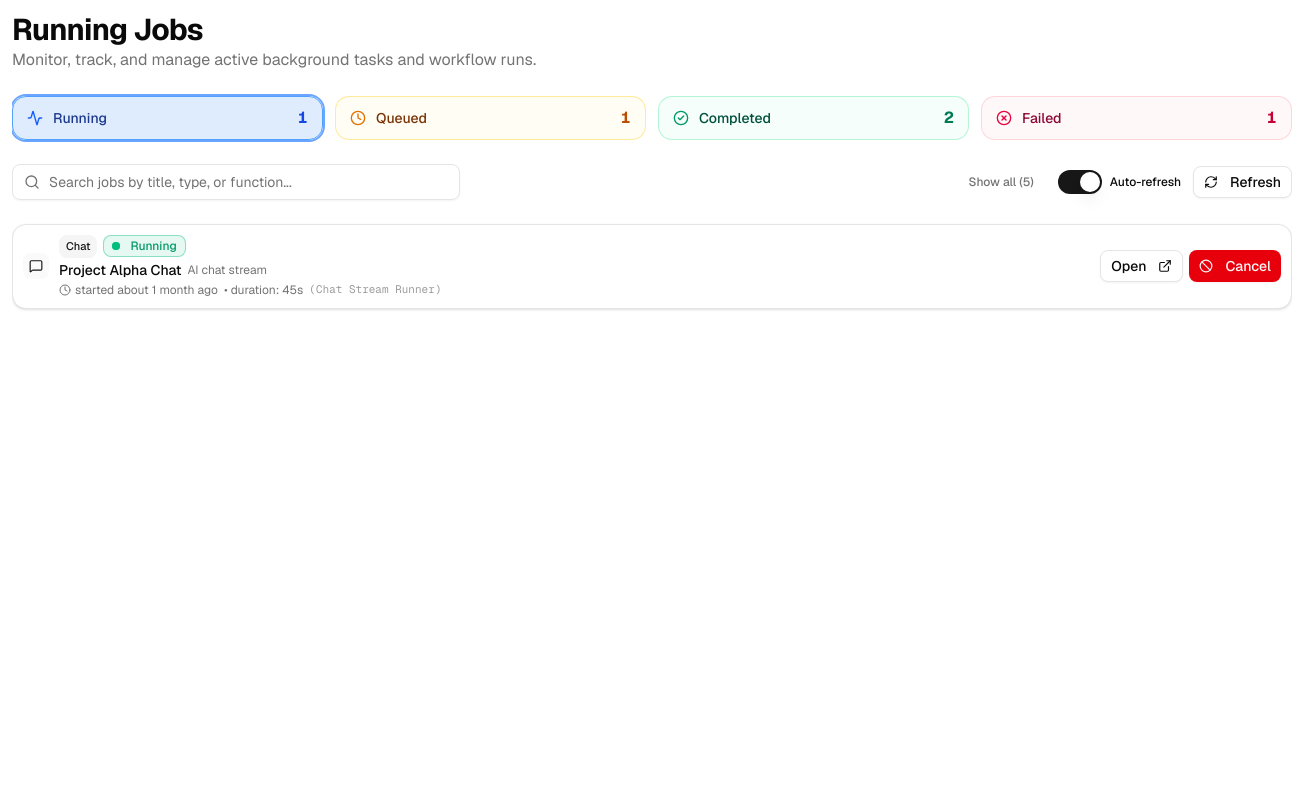
Test: Running Jobs Page & JobsView Component › switches tabs ('Running', 'Queued', 'Completed', 'Failed') and filters list correctly
Check: the link "Project Alpha Chat" is shown, box [59,260,182,280]
# Switch to "Queued" tab
Click the tab "Queued 1". click: (401, 118)
box: [335,96,646,140]
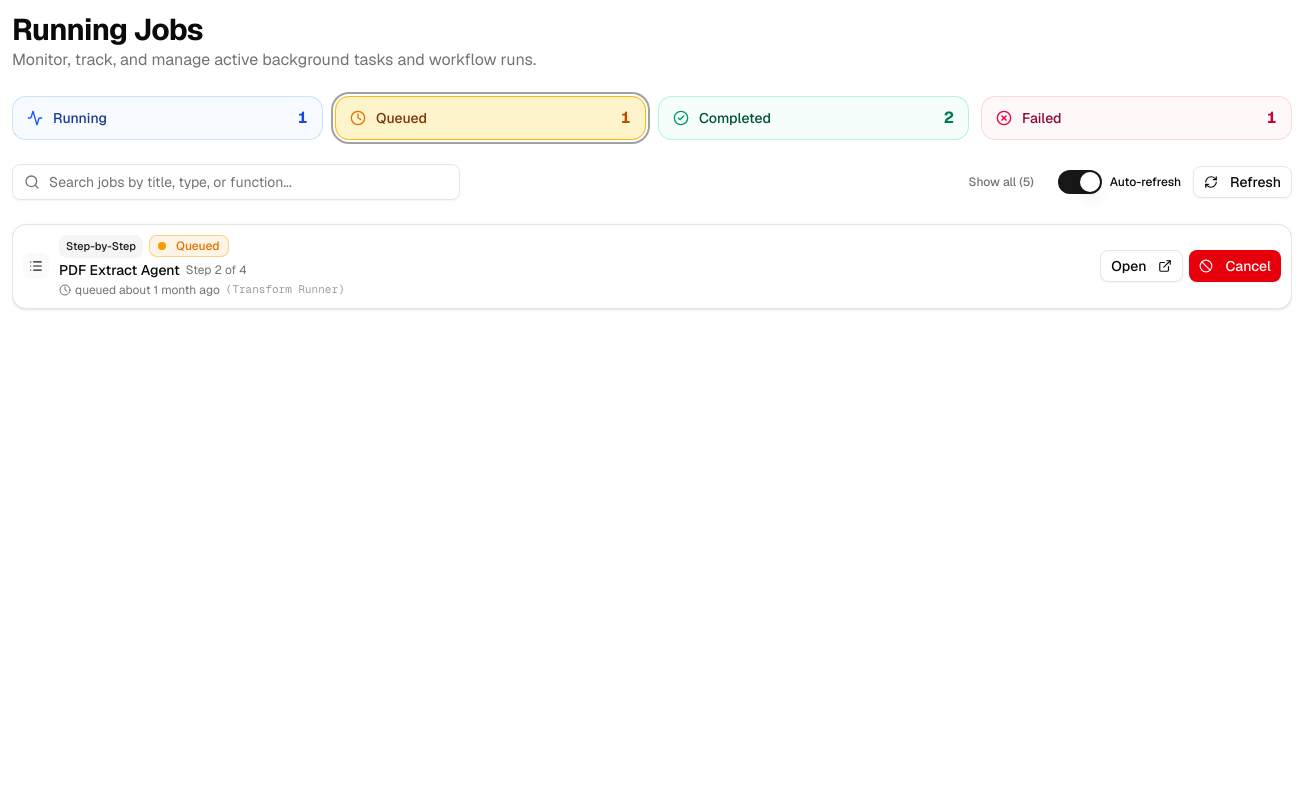
Check: the text "Spanish Localization" is not shown
Check: the link "PDF Extract Agent" is shown, box [59,260,180,280]
Check: the link "Project Alpha Chat" is gone
# Switch to "Completed" tab
Click the tab "Completed 2". click: (735, 118)
box: [658,96,969,140]
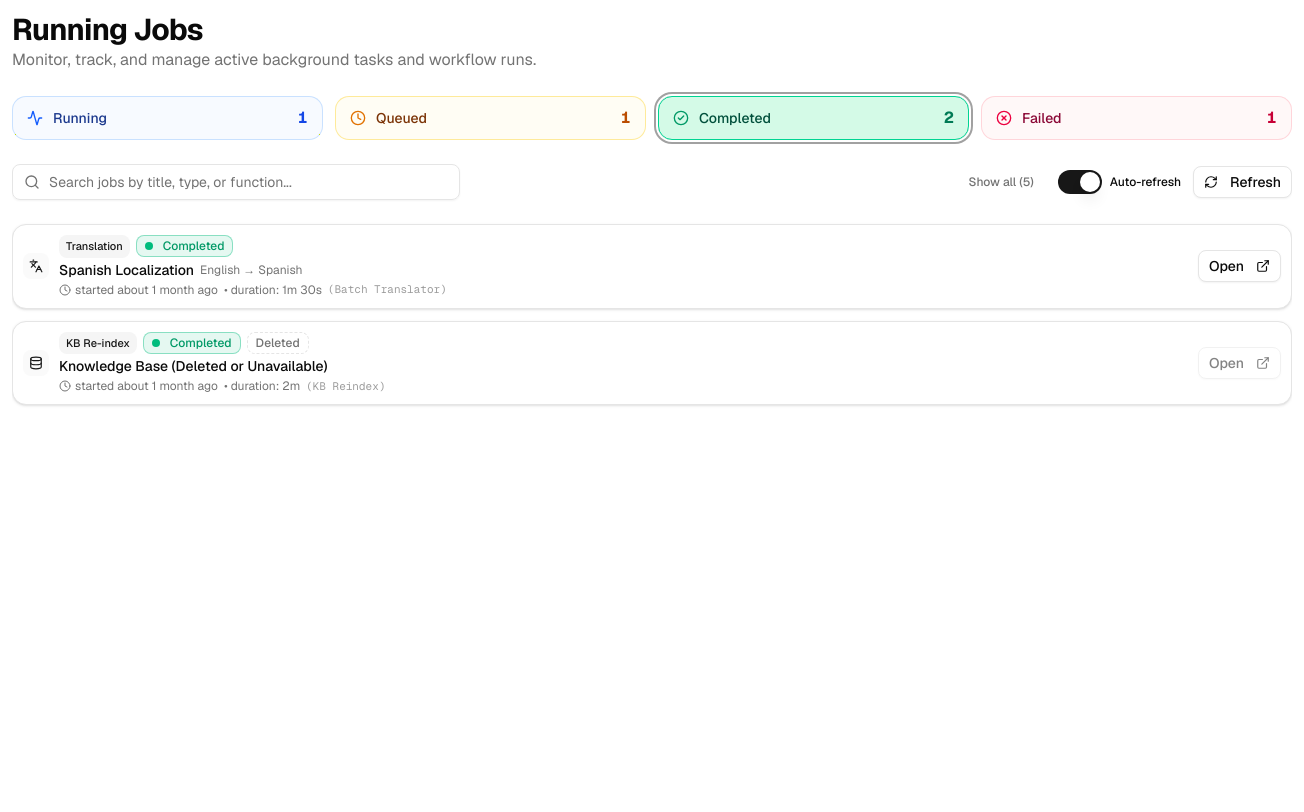
Check: the link "Project Alpha Chat" is not shown
Check: the link "Spanish Localization" is shown, box [59,260,194,280]
Check: the text "Knowledge Base (Deleted or Unavailable)" is shown, box [59,356,328,376]
# Switch to "Failed" tab
Click the tab "Failed 1". click: (1042, 118)
box: [981,96,1292,140]
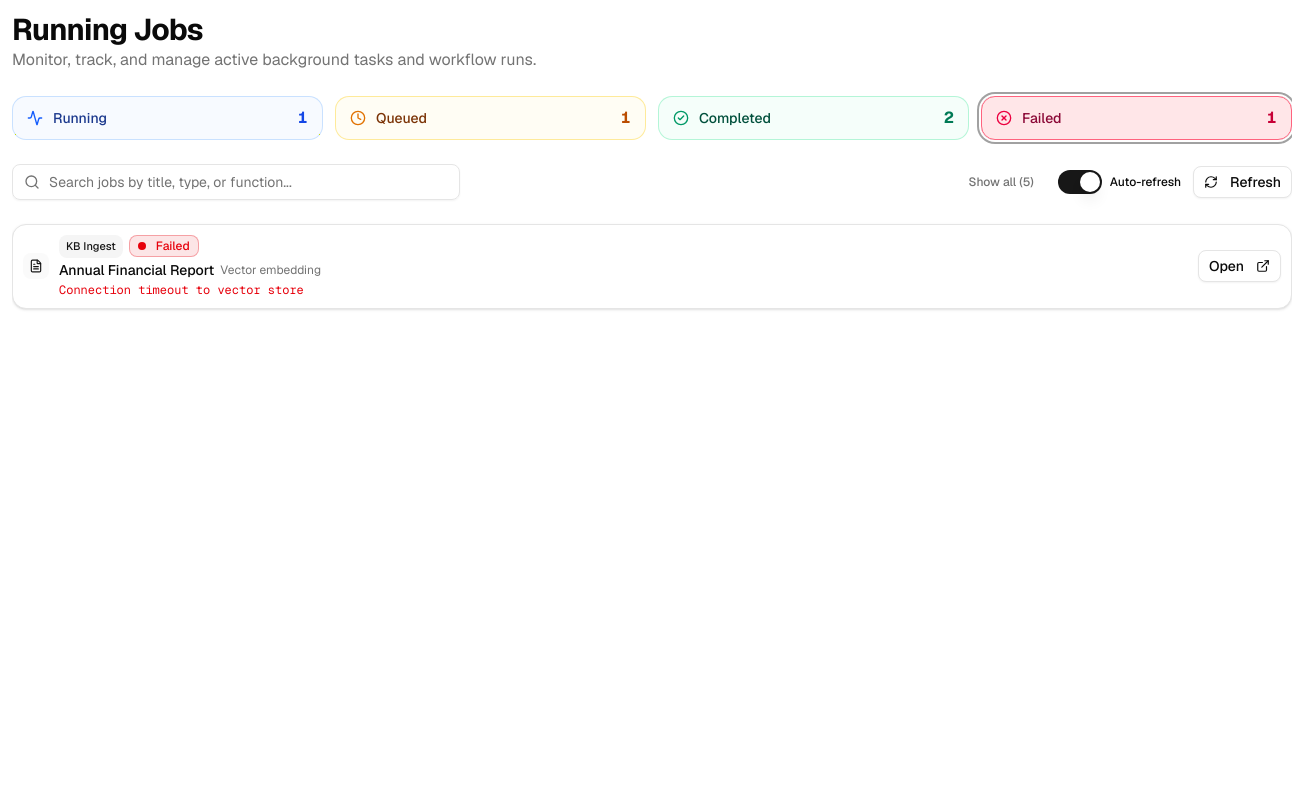
Check: the link "Annual Financial Report" is shown, box [59,260,214,280]
Check: the text "Connection timeout to vector store" is shown, box [59,282,304,298]
Check: the link "Spanish Localization" is gone
# Switch to "Show all"
Click the button "Show all (5)". click: (1001, 182)
box: [956,166,1046,198]
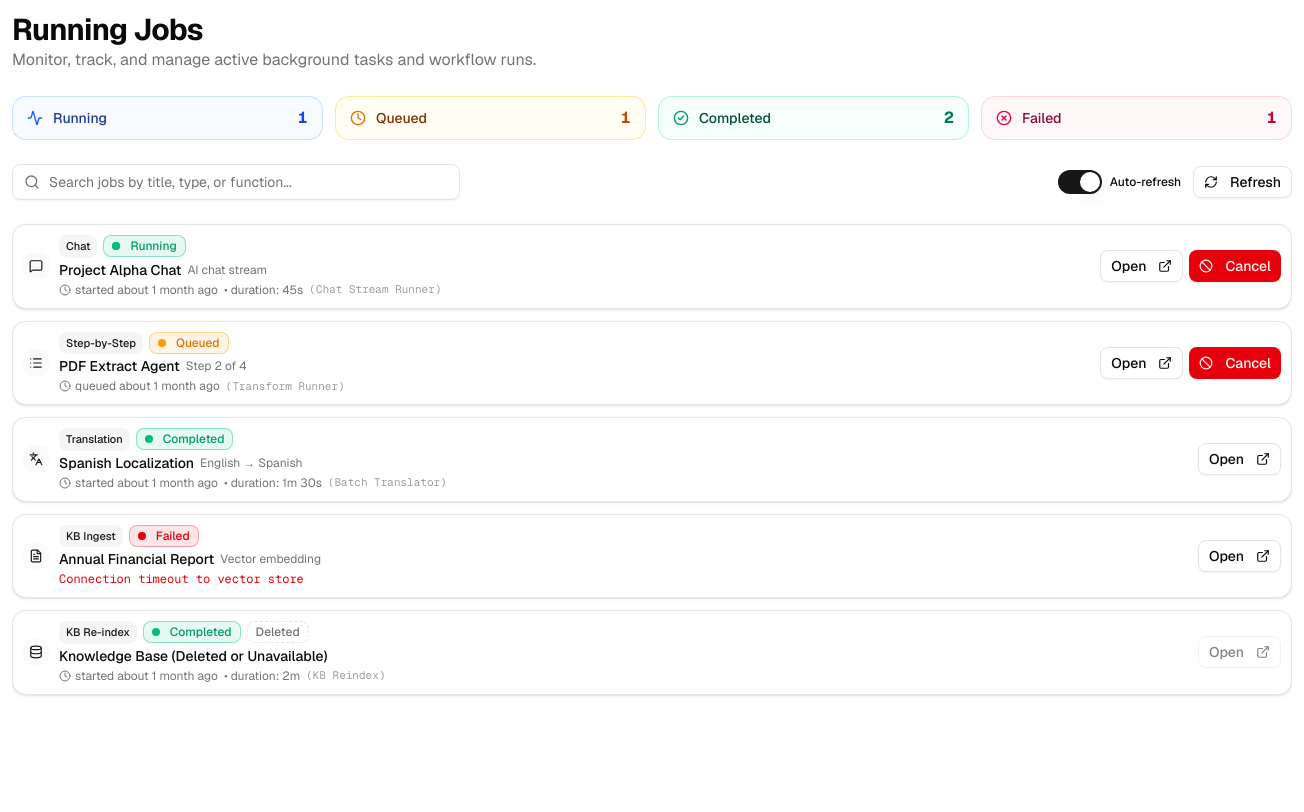
Check: the link "Project Alpha Chat" is shown, box [59,260,182,280]
Check: the link "PDF Extract Agent" is shown, box [59,356,180,376]
Check: the link "Spanish Localization" is shown, box [59,452,194,472]
# Switch back to "Running" tab
Click the tab "Running 1". click: (80, 118)
box: [12,96,323,140]
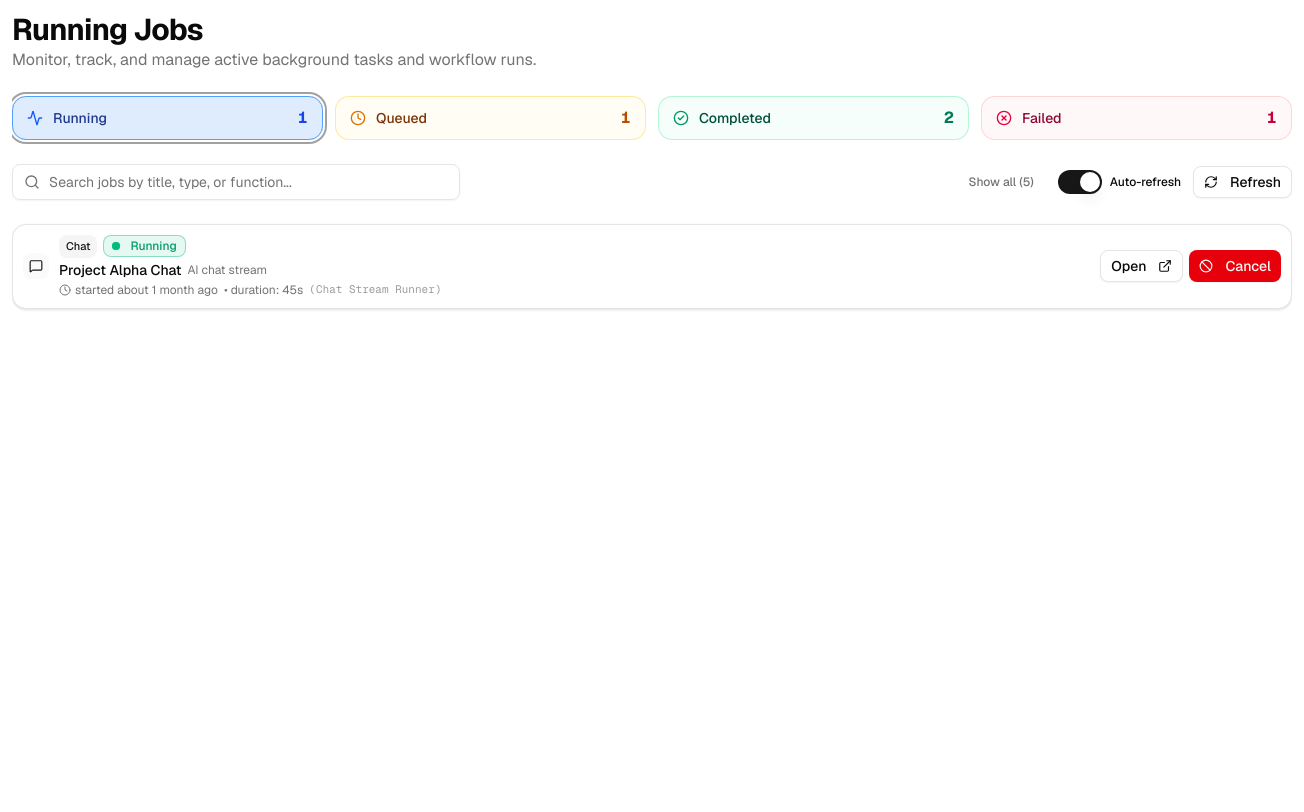
Check: the link "Project Alpha Chat" is shown, box [59,260,182,280]
Check: the link "PDF Extract Agent" is gone
Check: the link "Spanish Localization" is gone
